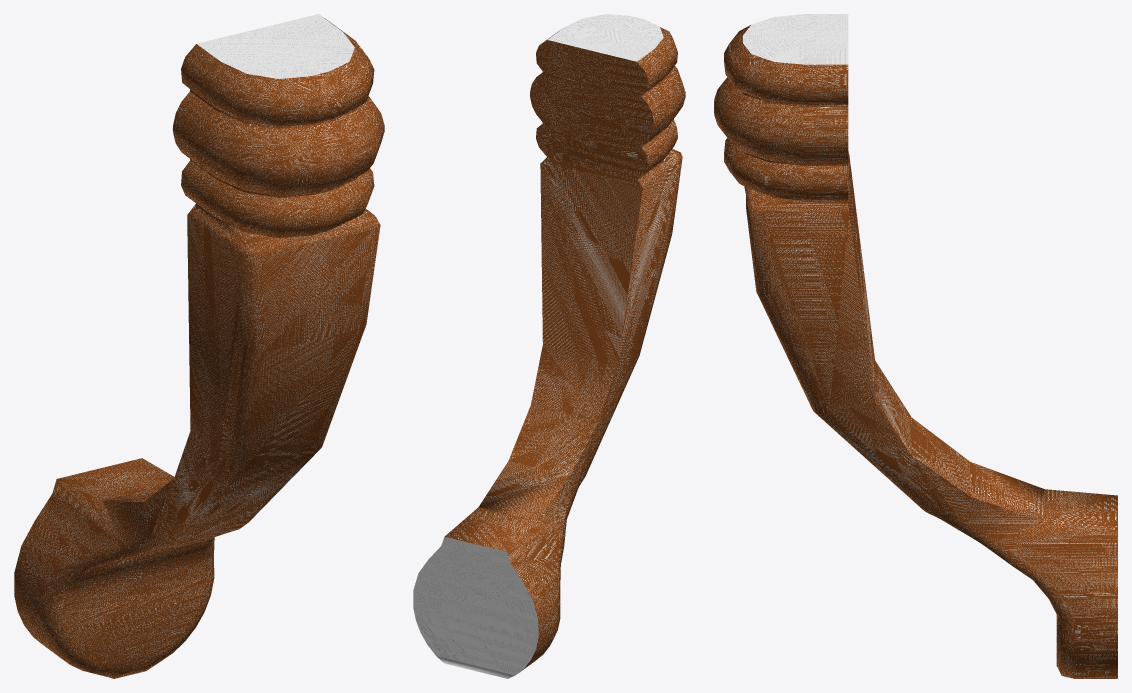
The model's file is original-41.obj.
3 renders of one model, left to right at view 1: azimuth 30°, elevation 25°; view 2: azimuth 150°, elevation 25°; view 3: azimuth 270°, elevation 25°, orthographic. The views are drawn at different scales.
Visible parts, largest first — view 1: mesh25/mesh25-geometry#mesh25-geometry; view 2: mesh25/mesh25-geometry#mesh25-geometry; view 3: mesh25/mesh25-geometry#mesh25-geometry.
Boxes of the visible parts, left/top/right/bottom form: mesh25/mesh25-geometry#mesh25-geometry: left=14, top=14, right=384, bottom=678; mesh25/mesh25-geometry#mesh25-geometry: left=413, top=14, right=685, bottom=678; mesh25/mesh25-geometry#mesh25-geometry: left=714, top=14, right=1117, bottom=678.
Bounding box in the file's own units: 0.0228 × 0.0945 × 0.0548.
